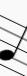note: (0, 10, 26, 76)
